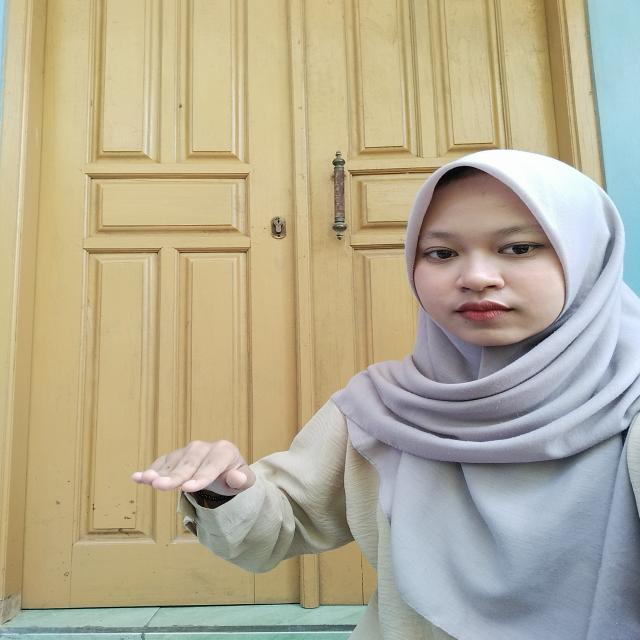adik: (114, 416, 286, 546)
